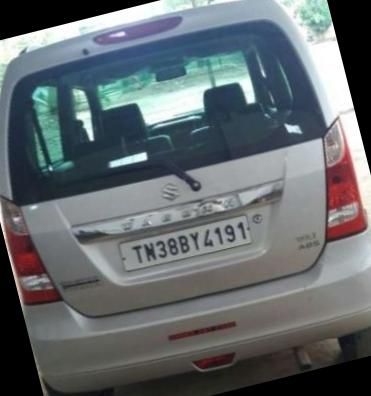plate: (108, 190, 274, 293)
